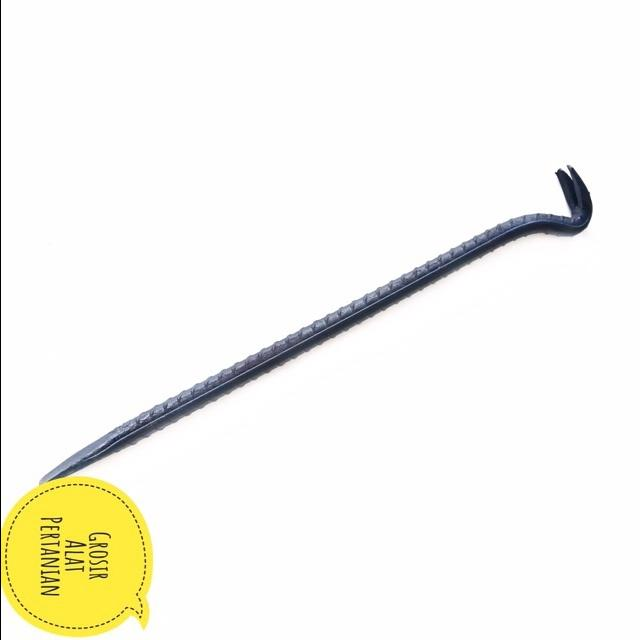Linggis: (41, 165, 597, 491)
